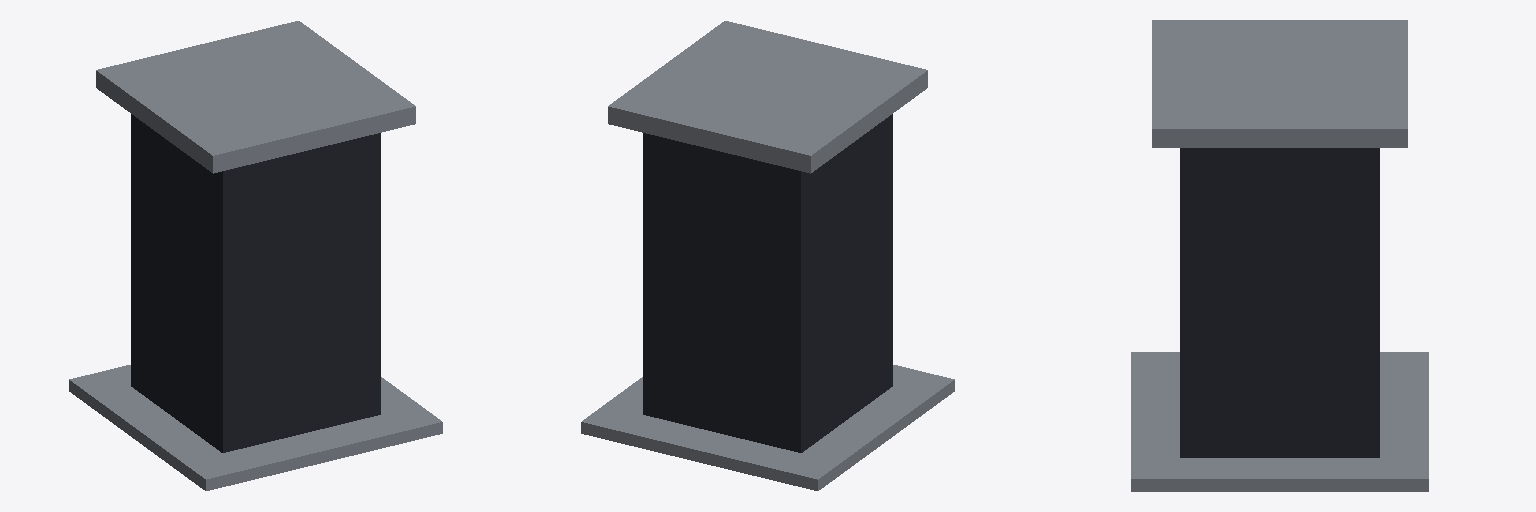
URDF robot description (pedestal):
<?xml version="1.0"?>
<!-- SPDX-License-Identifier: GPL-3.0-or-later OR LicenseRef-RobotIK-Commercial
     Copyright (c) 2020-2026 Quentin Quadrat
     Pedestal of a robot, 0.549 m high: put the robot base at z = 0.55.
     Base frame: origin on the floor at the centre, z up. -->
<robot name="pedestal">
  <material name="steel"><color rgba="0.55 0.57 0.60 1"/></material>
  <material name="graphite"><color rgba="0.20 0.21 0.24 1"/></material>

  <link name="pedestal_base">
    <inertial>
      <origin xyz="0 0 0.2745" rpy="0 0 0"/>
      <mass value="60.0"/>
      <inertia ixx="1.0" ixy="0.0" ixz="0.0" iyy="1.0" iyz="0.0" izz="1.0"/>
    </inertial>
    <visual>
      <!-- column -->
      <origin xyz="0.0000 0.0000 0.2595" rpy="0.0000 0.0000 0.0000"/>
      <geometry><box size="0.2800 0.2800 0.5190"/></geometry>
      <material name="graphite"/>
    </visual>
    <collision>
      <!-- column -->
      <origin xyz="0.0000 0.0000 0.2595" rpy="0.0000 0.0000 0.0000"/>
      <geometry><box size="0.2800 0.2800 0.5190"/></geometry>
    </collision>
    <visual>
      <!-- plate -->
      <origin xyz="0.0000 0.0000 0.5340" rpy="0.0000 0.0000 0.0000"/>
      <geometry><box size="0.3600 0.3600 0.0300"/></geometry>
      <material name="steel"/>
    </visual>
    <collision>
      <!-- plate -->
      <origin xyz="0.0000 0.0000 0.5340" rpy="0.0000 0.0000 0.0000"/>
      <geometry><box size="0.3600 0.3600 0.0300"/></geometry>
    </collision>
    <visual>
      <!-- foot -->
      <origin xyz="0.0000 0.0000 0.0100" rpy="0.0000 0.0000 0.0000"/>
      <geometry><box size="0.4200 0.4200 0.0200"/></geometry>
      <material name="steel"/>
    </visual>
  </link>
</robot>

--- What the picture shows (computed from the rendered views, not written in the file) ---
The picture shows the robot from 3 angles, left to right: view 1: azimuth 30°, elevation 25°; view 2: azimuth 150°, elevation 25°; view 3: azimuth 270°, elevation 25°; orthographic projection.
Model pedestal with 1 links and 0 joints (none), rooted at pedestal_base, posed every joint at zero.
Links seen in each view (by area): view 1: pedestal_base; view 2: pedestal_base; view 3: pedestal_base.
Boxes of the visible links, x1,y1,x2,y2 form: pedestal_base: [69, 21, 442, 490]; pedestal_base: [581, 21, 954, 490]; pedestal_base: [1131, 20, 1428, 491].
Bounding box of the posed robot: 0.42 × 0.42 × 0.549 m (x, y, z).
Geometry: primitives only (box / cylinder / sphere), no mesh files.
